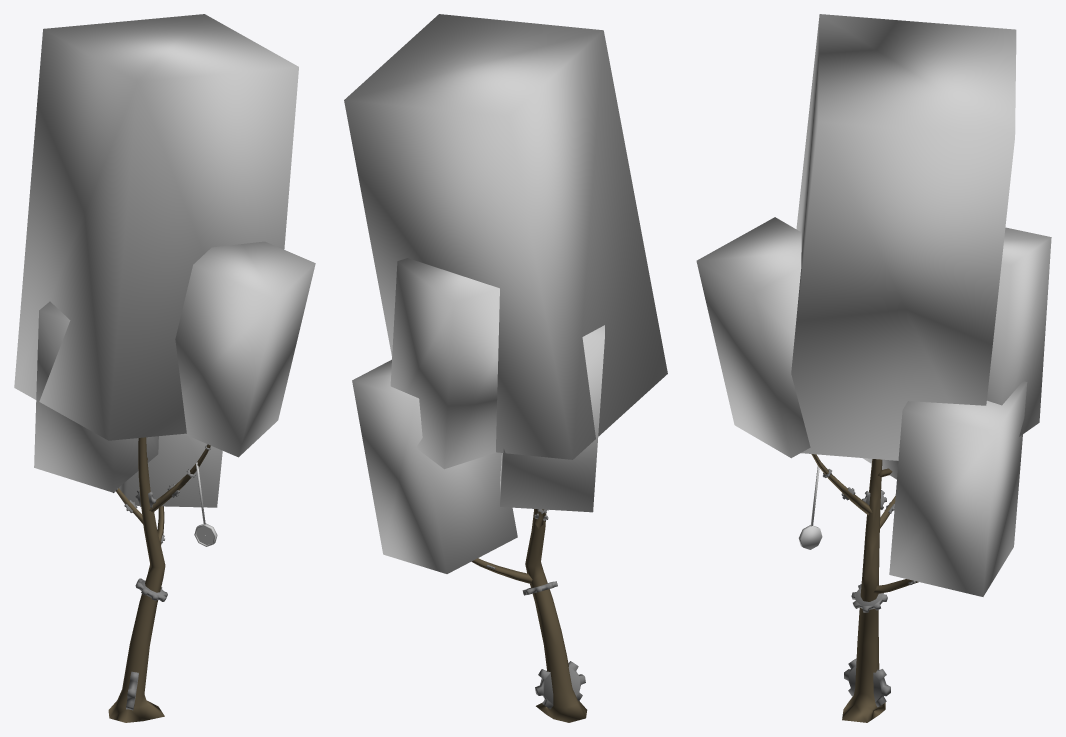
The model's file is sm_tree_clockwork_03_LOD1.fbx.
3 views of the same model, side by side, from view 1: azimuth 30°, elevation 25°; view 2: azimuth 150°, elevation 25°; view 3: azimuth 270°, elevation 25° (orthographic). The views are drawn at different scales.
Parts seen in each view (by area): view 1: sm_tree_clockwork_03_LOD1; view 2: sm_tree_clockwork_03_LOD1; view 3: sm_tree_clockwork_03_LOD1.
Boxes of the visible parts, box(x1,y1,x2,y2) form: sm_tree_clockwork_03_LOD1: box(14, 14, 315, 722); sm_tree_clockwork_03_LOD1: box(344, 14, 667, 722); sm_tree_clockwork_03_LOD1: box(696, 14, 1051, 722).
Size of the model in its own units: 5.19 by 7.19 by 15.33.
